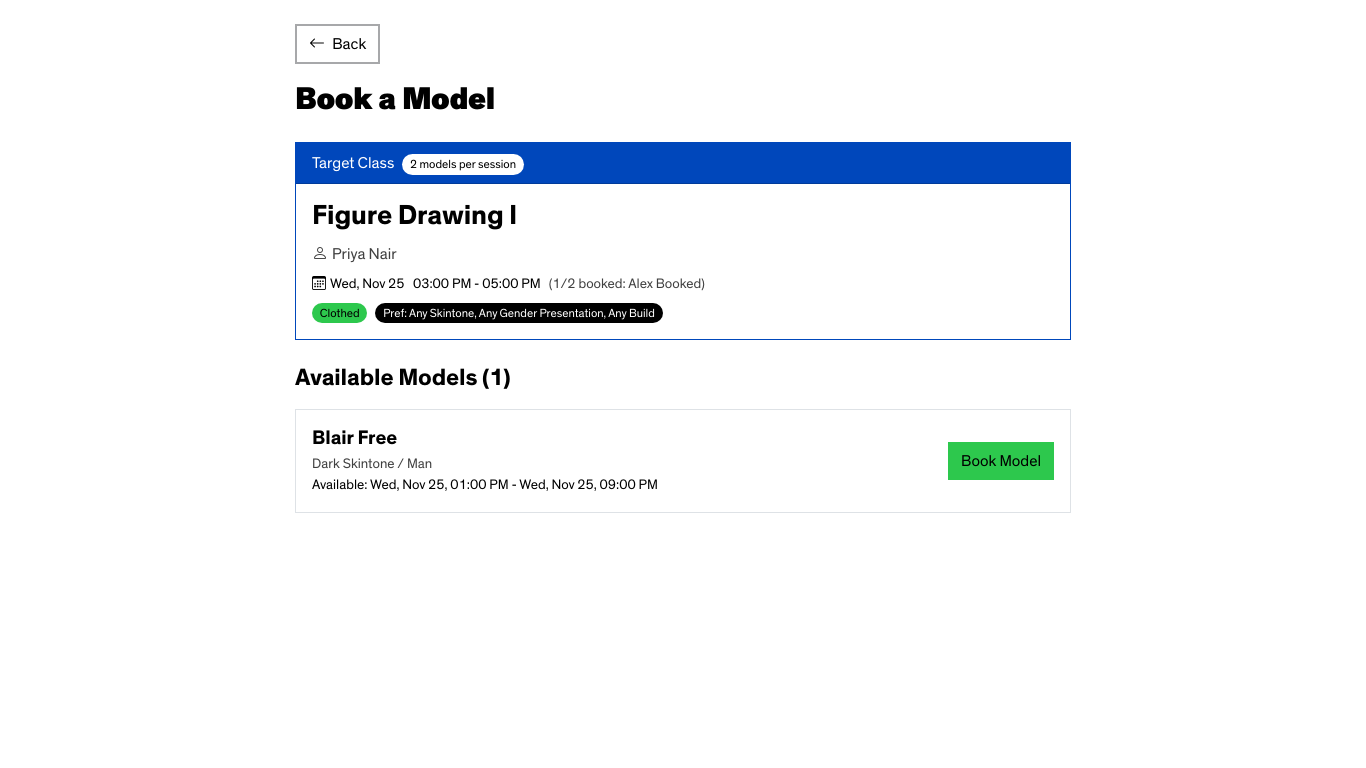
Scenario: GigCreator (matching screen) › confirms and wraps up once the last spot is filled
Click the button "Book Model": (1001, 461) [948, 442, 1054, 480]
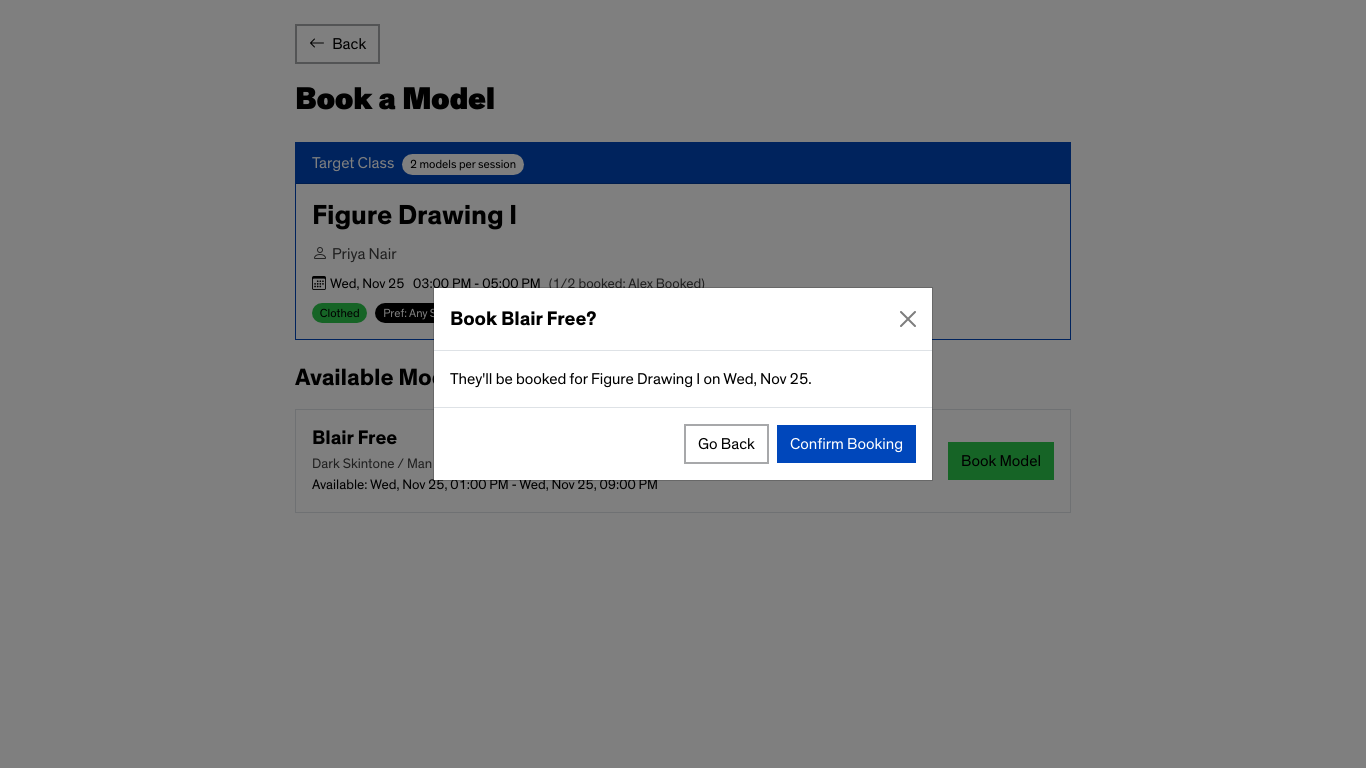
Click the button "Confirm Booking": (846, 444) [777, 425, 916, 463]
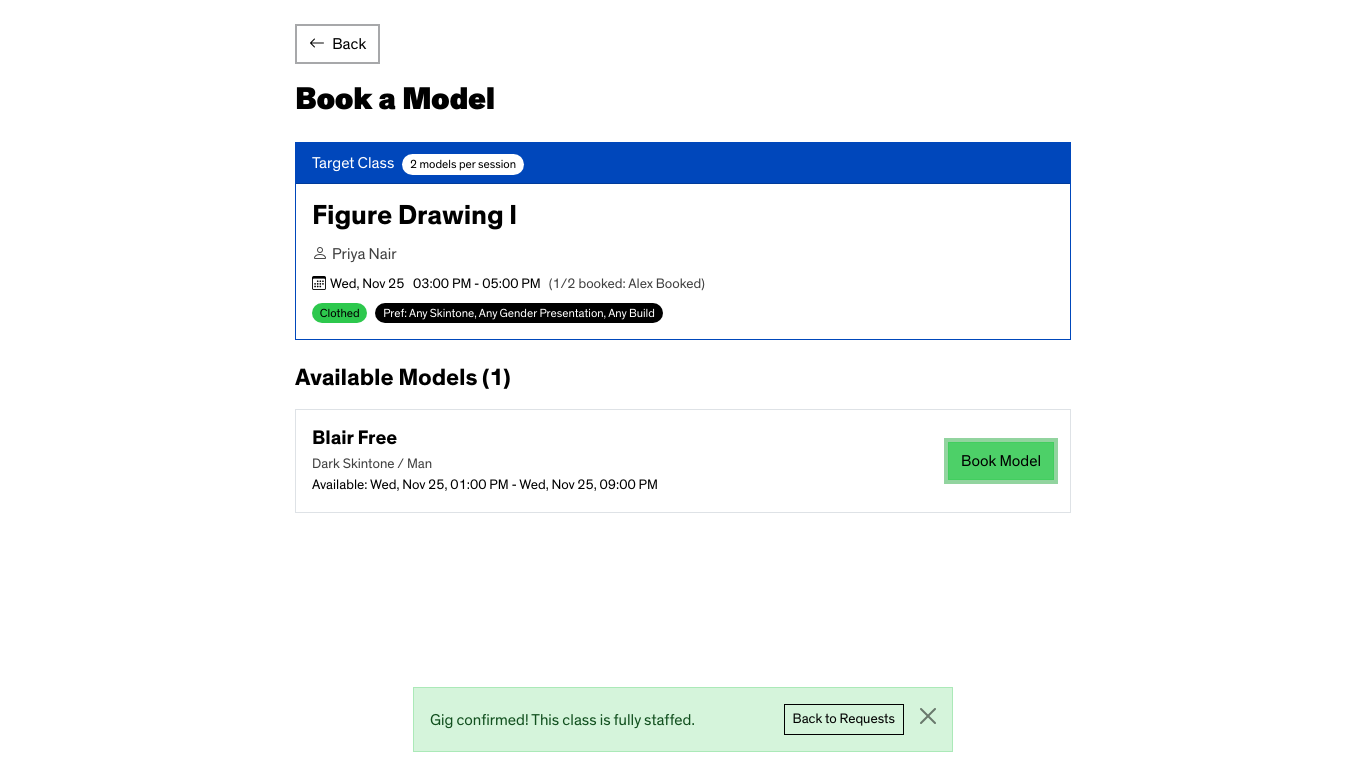
Check: the message reads "Gig confirmed! This class is fully staffed. Back to Requests", box [430, 712, 695, 728]
Check: the button "Back to Requests" is shown, box [784, 704, 904, 735]
